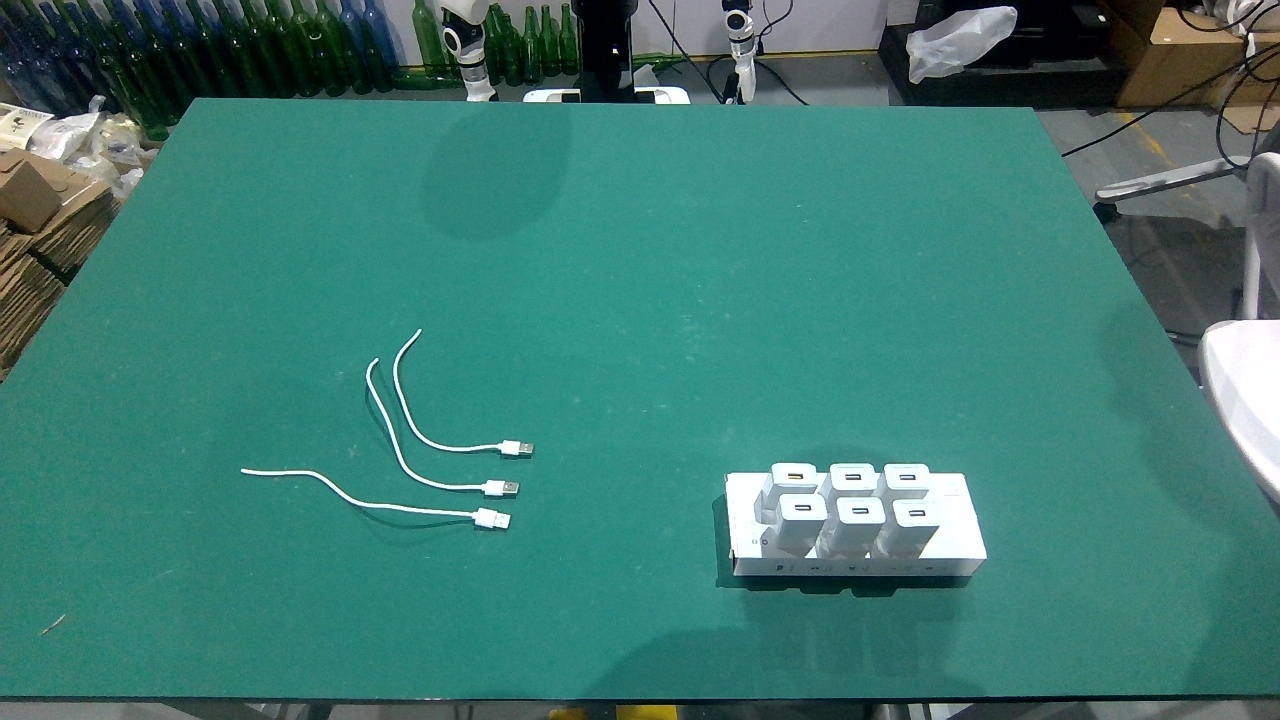usb_a_plug: (452, 501, 518, 533), (466, 476, 527, 500), (483, 437, 538, 457)
